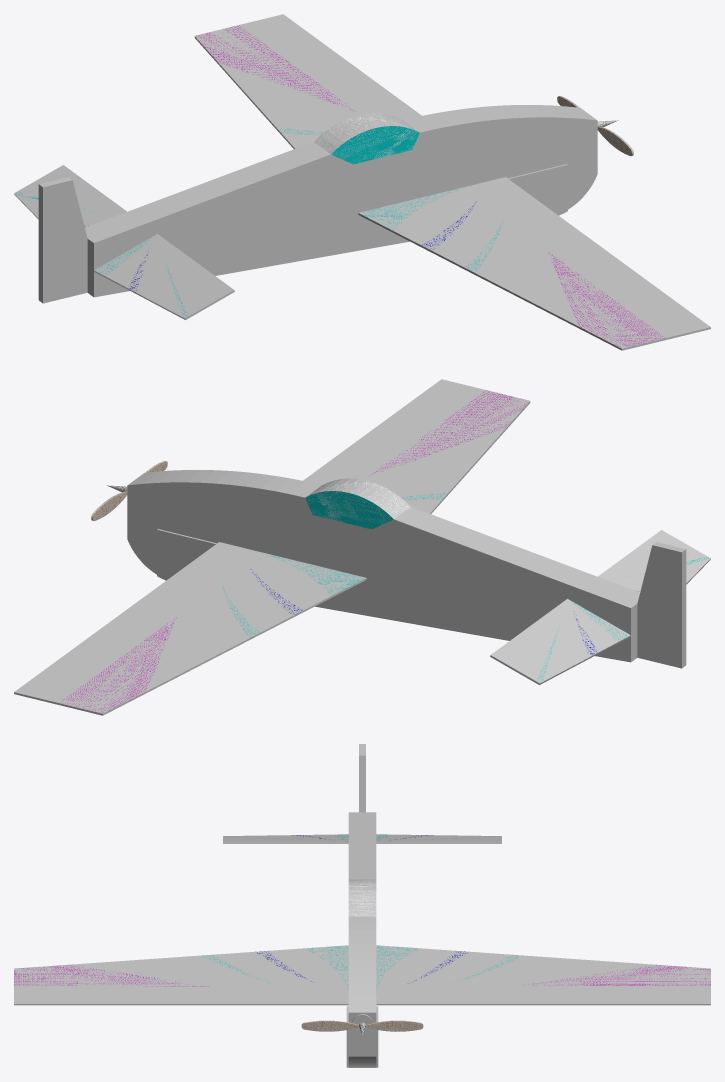
The picture shows the model from 3 angles, top to bottom: view 1: azimuth 30°, elevation 25°; view 2: azimuth 150°, elevation 25°; view 3: azimuth 270°, elevation 25°; orthographic projection. The views are drawn at different scales.
Visible parts, largest first — view 1: mesh19_mesh19-geometry; view 2: mesh19_mesh19-geometry; view 3: mesh19_mesh19-geometry.
Boxes of the visible parts, x1=… form: mesh19_mesh19-geometry: x1=14, y1=14, x2=710, y2=350; mesh19_mesh19-geometry: x1=14, y1=379, x2=710, y2=715; mesh19_mesh19-geometry: x1=14, y1=744, x2=710, y2=1067.
Bounding box in the file's own units: 0.6082 × 0.1482 × 0.7798.
